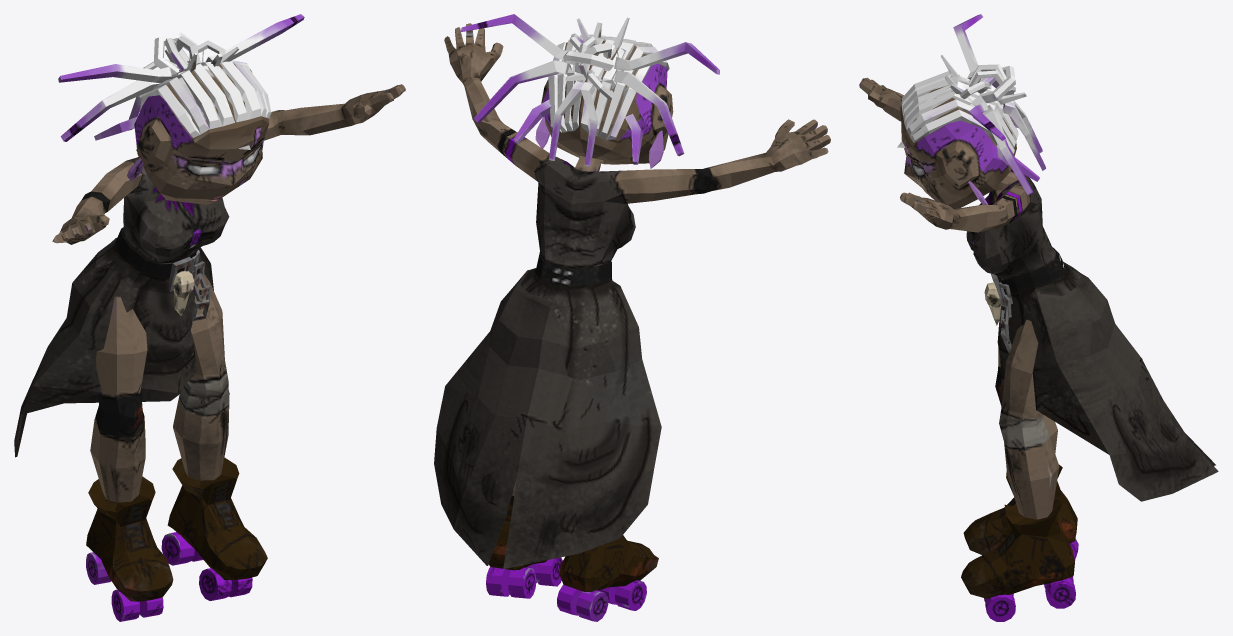
The model's file is bruja_000202.obj.
The picture shows the model from 3 angles, left to right: view 1: azimuth 30°, elevation 25°; view 2: azimuth 150°, elevation 25°; view 3: azimuth 270°, elevation 25°; orthographic projection. The views are drawn at different scales.
Visible parts, largest first — view 1: Bruja_Plane.001; view 2: Bruja_Plane.001; view 3: Bruja_Plane.001.
Boxes of the visible parts, bbox=[...] form: Bruja_Plane.001: bbox=[14, 14, 405, 621]; Bruja_Plane.001: bbox=[434, 14, 830, 621]; Bruja_Plane.001: bbox=[859, 14, 1218, 621].
Bounding box in the file's own units: 10.84 × 16.13 × 9.89.
